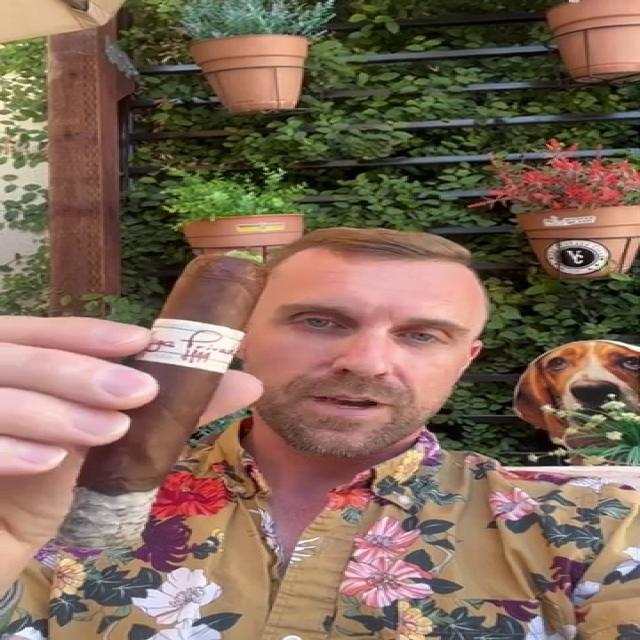Cigarette: (46, 257, 273, 557)
Hand: (0, 303, 281, 617)
Mouth: (294, 387, 404, 418)
